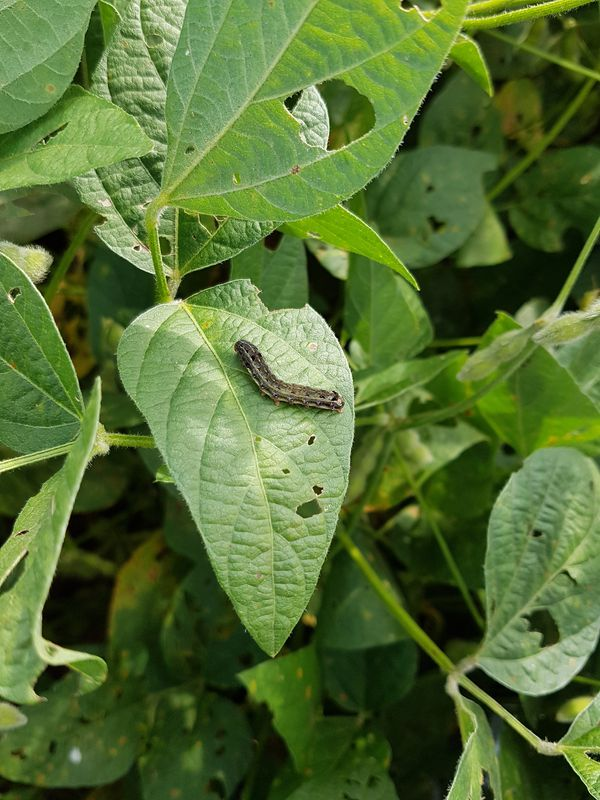Spodoptera_albula: (223, 329, 351, 426)
